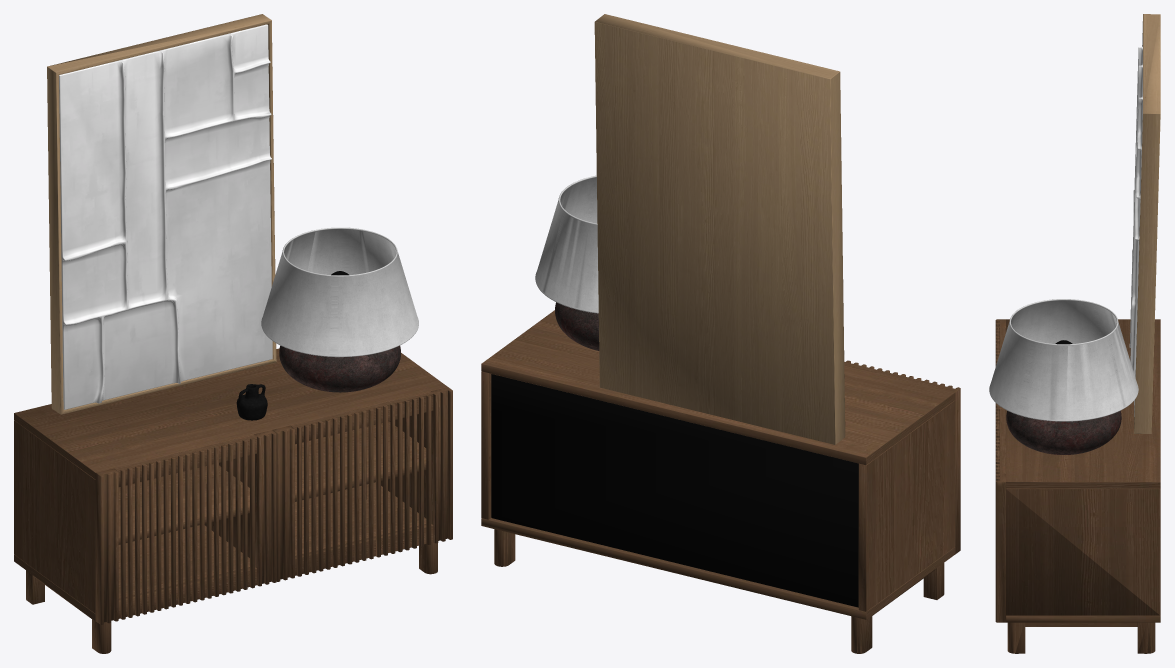
Rendered from beyla-shoe-cabinet-runtime-lite.glb.
3 views of the same model, side by side, from view 1: azimuth 30°, elevation 25°; view 2: azimuth 150°, elevation 25°; view 3: azimuth 270°, elevation 25° (orthographic). The views are drawn at different scales.
Parts seen in each view (by area): view 1: Beyla Shoe Cabinet; view 2: Beyla Shoe Cabinet; view 3: Beyla Shoe Cabinet.
Part boxes in pixels (x1,y1,x2,y2): Beyla Shoe Cabinet: [14, 14, 452, 653]; Beyla Shoe Cabinet: [481, 14, 960, 653]; Beyla Shoe Cabinet: [989, 14, 1160, 653].
Bounding box in the file's own units: 0.98 × 1.39 × 0.4361.
9 materials, 6 textured.
